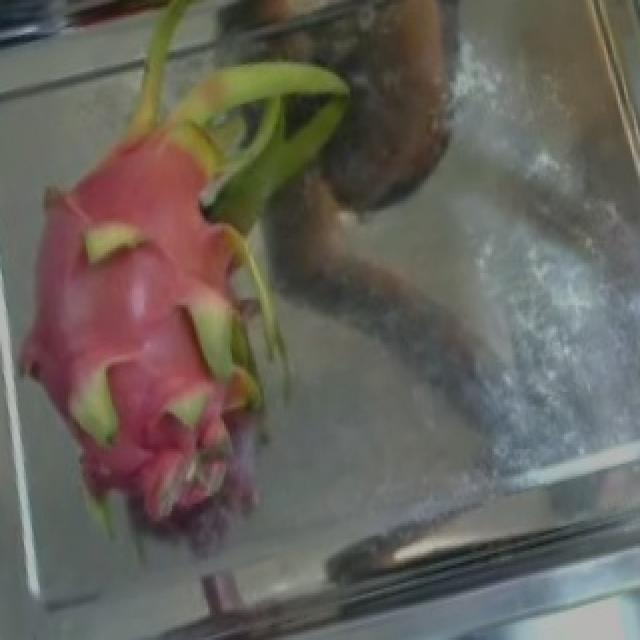fruit: (0, 2, 400, 446)
